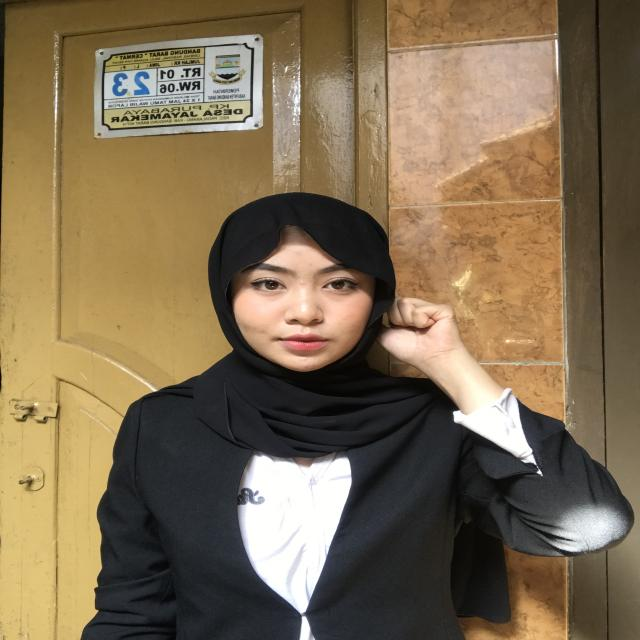ibu: (361, 282, 491, 406)
